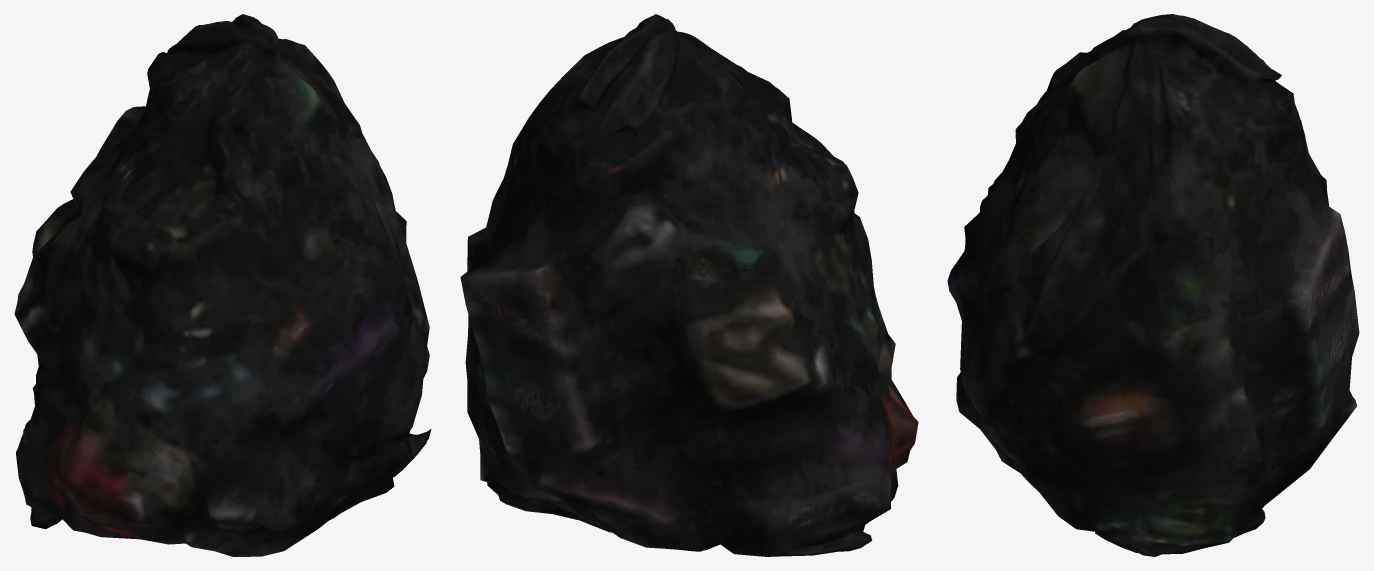
File: trashbag.gltf
The picture shows the model from 3 angles, left to right: view 1: azimuth 30°, elevation 25°; view 2: azimuth 150°, elevation 25°; view 3: azimuth 270°, elevation 25°; orthographic projection. The views are drawn at different scales.
Parts seen in each view (by area): view 1: trashbag; view 2: trashbag; view 3: trashbag.
Boxes of the visible parts, bbox=[...] form: trashbag: bbox=[14, 14, 431, 556]; trashbag: bbox=[460, 14, 918, 556]; trashbag: bbox=[947, 14, 1359, 556].
Bounding box in the file's own units: 0.5281 × 0.575 × 0.4629.
Materials: 1 (1 with a texture image).
